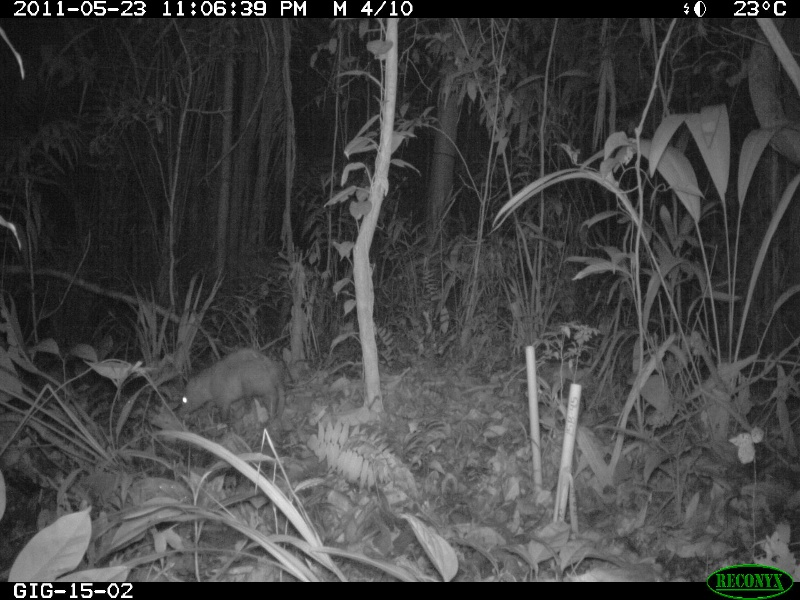opossum: (176, 347, 288, 424)
